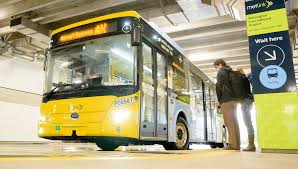bus: (36, 10, 236, 151)
